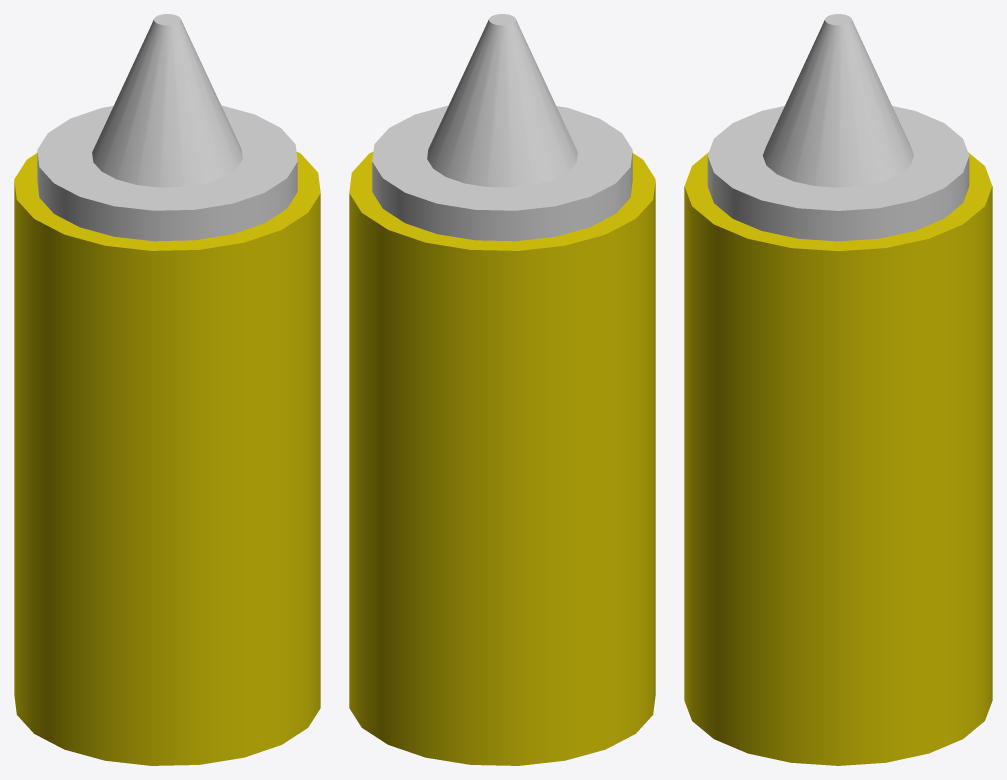
The model's file is mustard.fbx.
3 views of the same model, side by side, from view 1: azimuth 30°, elevation 25°; view 2: azimuth 150°, elevation 25°; view 3: azimuth 270°, elevation 25° (orthographic).
Visible parts, largest first — view 1: pCylinder1; view 2: pCylinder1; view 3: pCylinder1.
Boxes of the visible parts, bbox=[...] form: pCylinder1: bbox=[14, 14, 320, 765]; pCylinder1: bbox=[349, 14, 655, 765]; pCylinder1: bbox=[684, 14, 992, 765].
Bounding box in the file's own units: 80 × 195 × 80.
